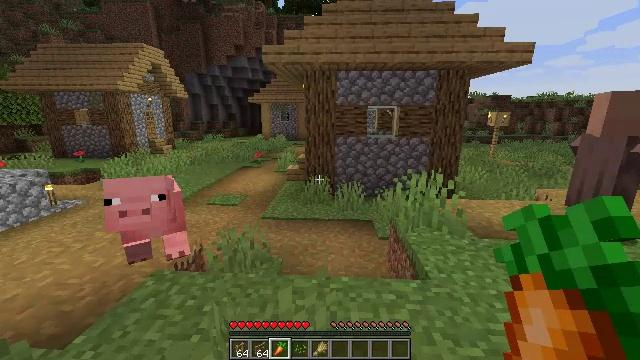pig: (104, 178, 190, 256)
